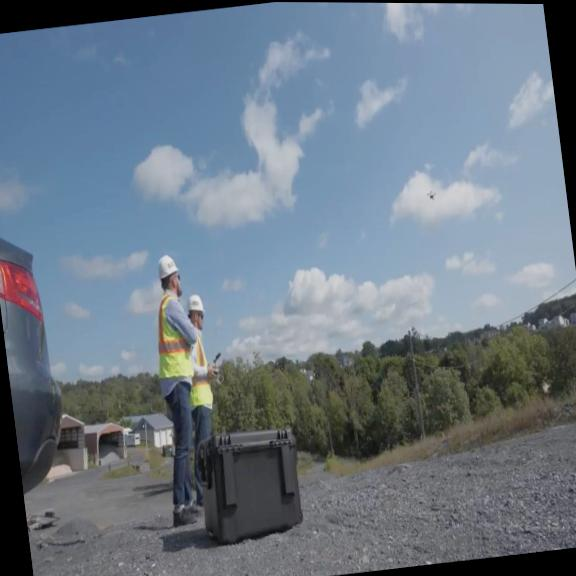safety_vest: (148, 291, 196, 380), (181, 330, 214, 407)
